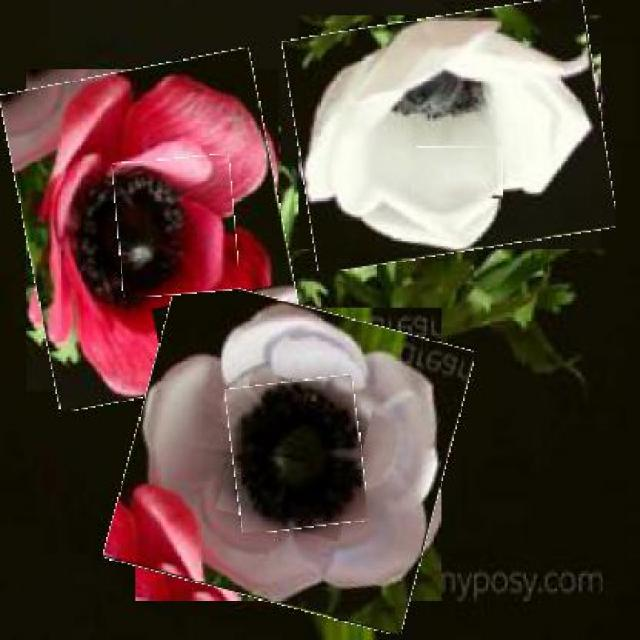Flower: (119, 290, 459, 619), (12, 60, 295, 403), (290, 5, 610, 262), (228, 378, 364, 532), (116, 157, 238, 297), (412, 148, 505, 200)
